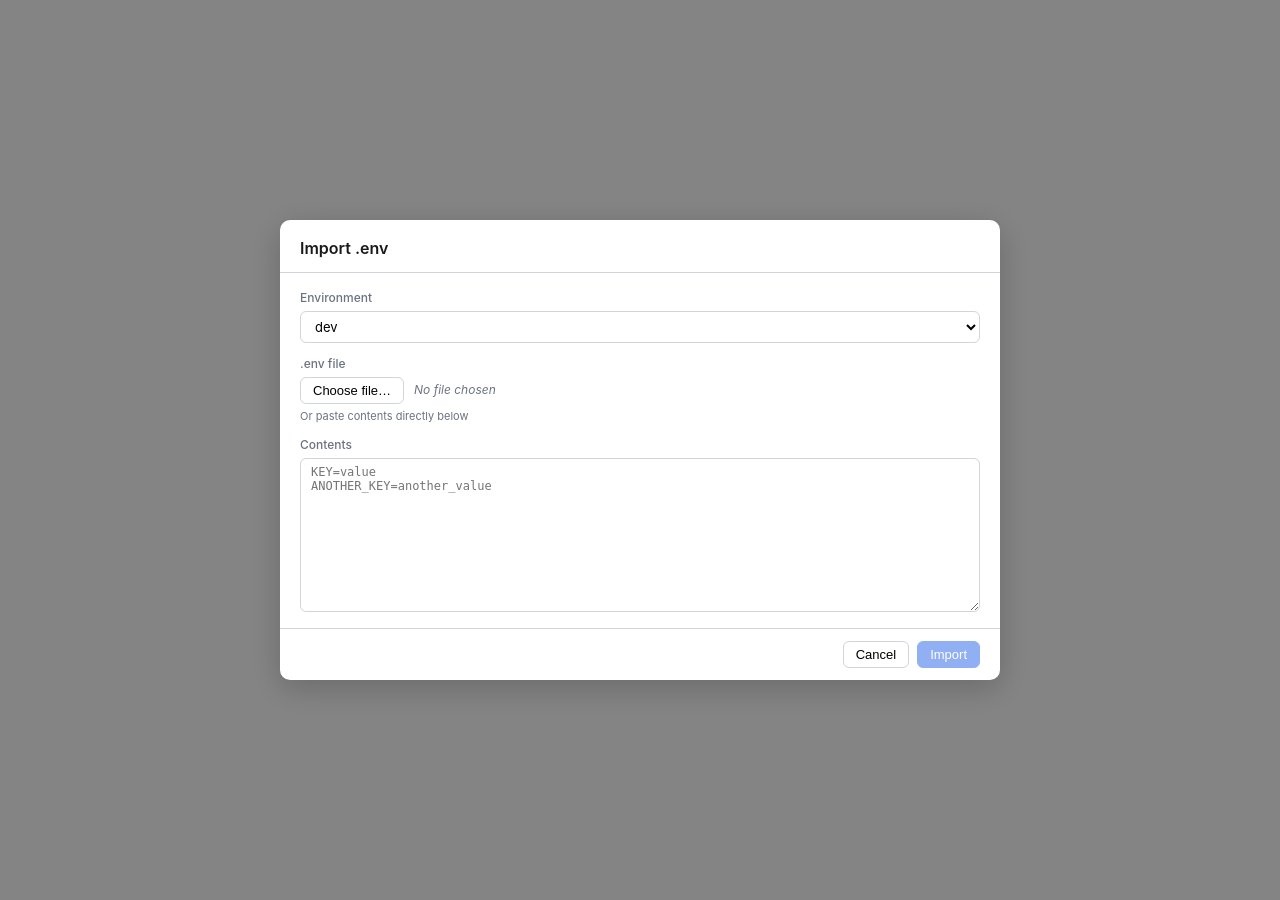
ImportEnvDialog › submit button enabled when textarea has content
In the text box: [640, 535] box [300,458,980,612], type "KEY=value"
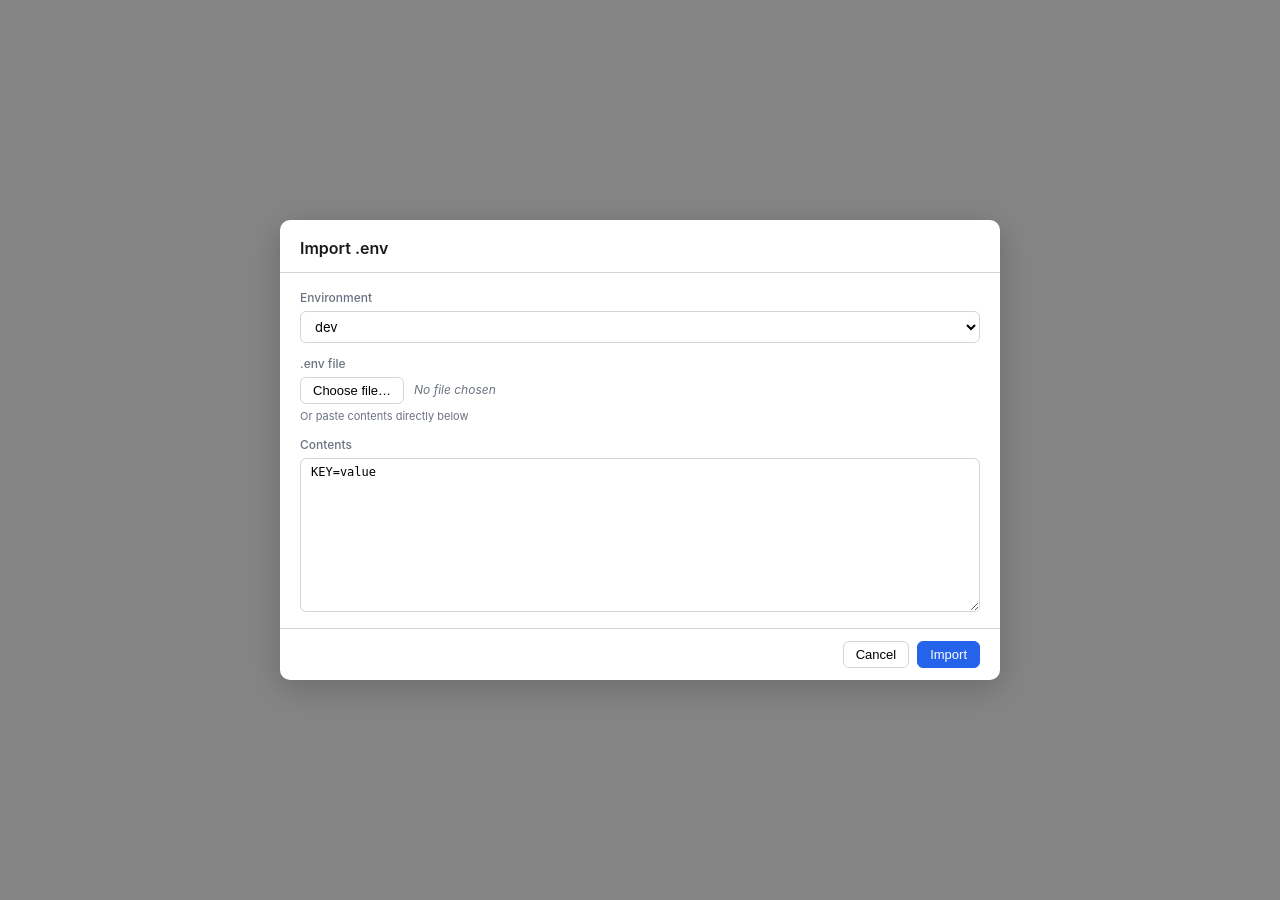
Expected: the button "Import" is enabled, [917,641,980,668]
